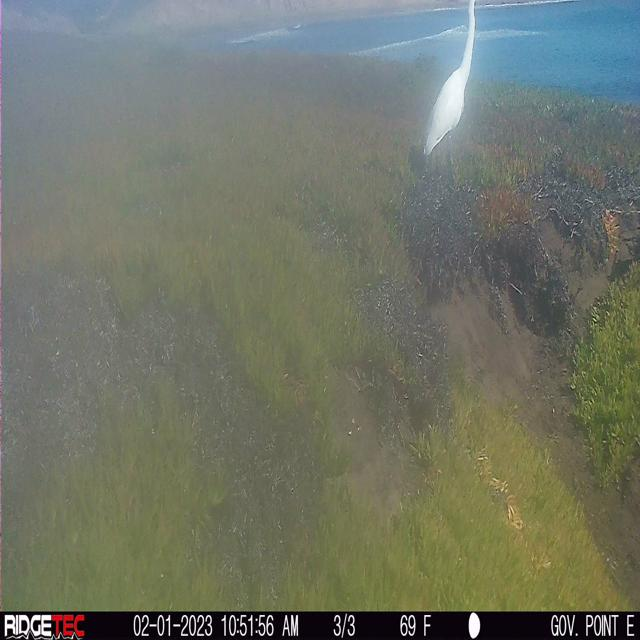bird: (410, 0, 484, 176)
